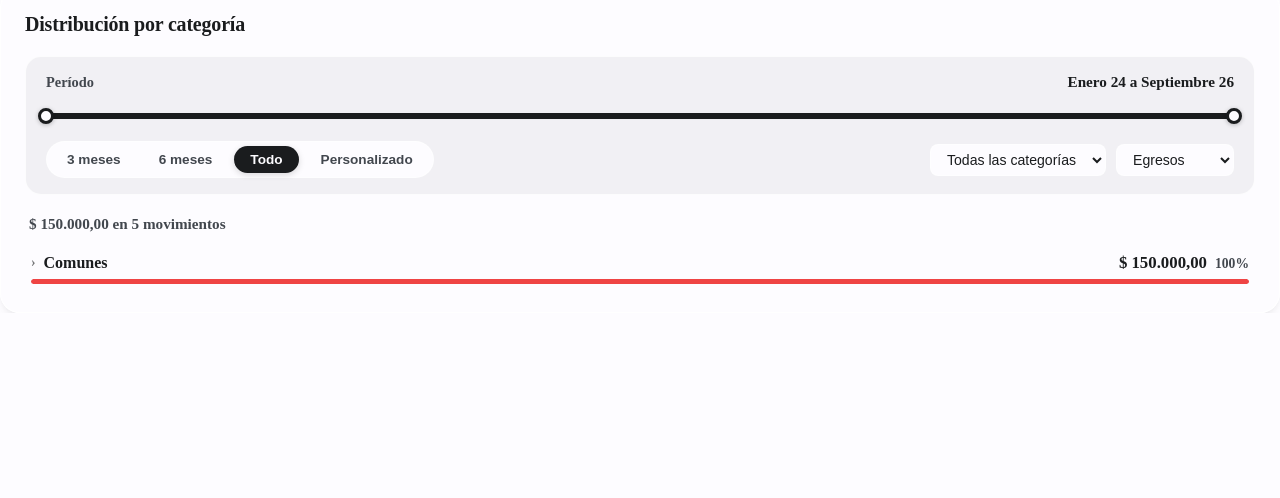
Test: CategoryDistributionCard - Interactive Draggable Range Slider › preserves the preset start date when dragging the end handle from 3m preset (prevents jump to minIso)
Click the button "3 meses": (94, 160) [51,146,137,173]
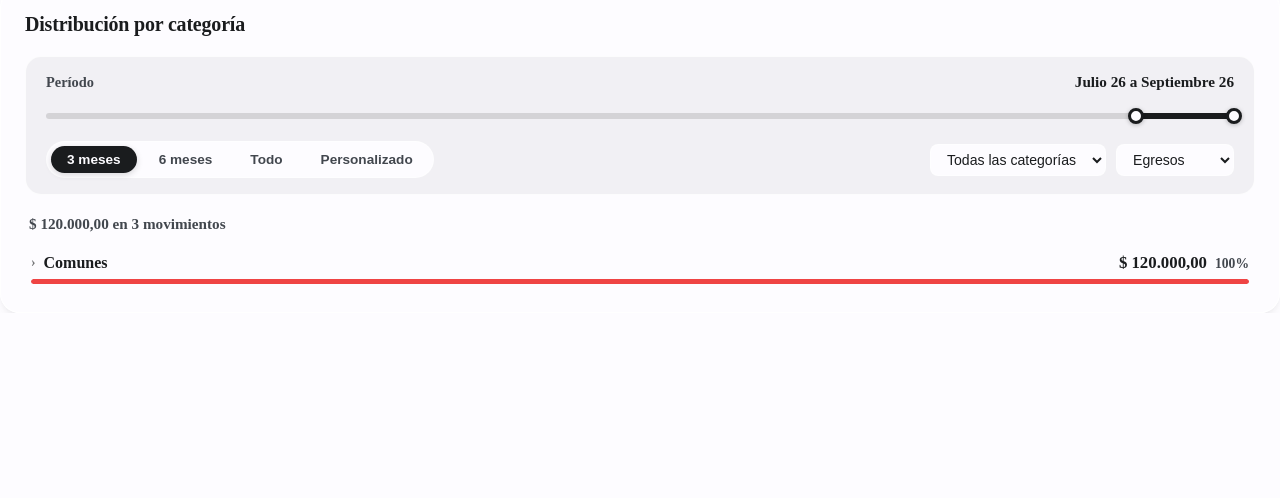
Press the mouse on the slider named "fecha hasta": (1234, 116) [1226,108,1242,124]
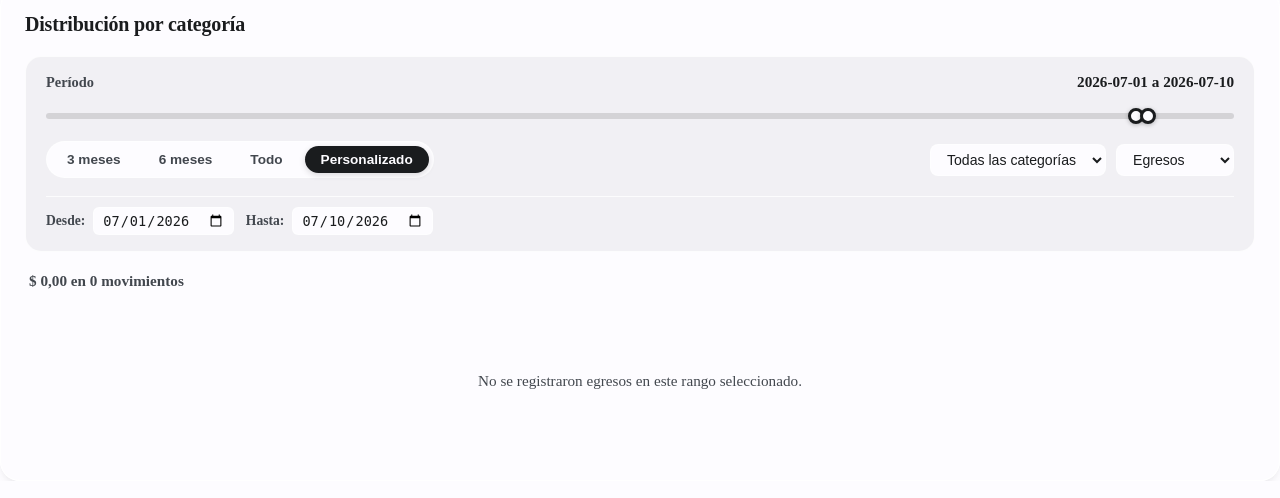
Result: the date field labelled "Desde:" holds "2026-07-01" at [93,207,234,235]
Result: the date field labelled "Desde:" does not hold "2024-01-01" at [93,207,234,235]
